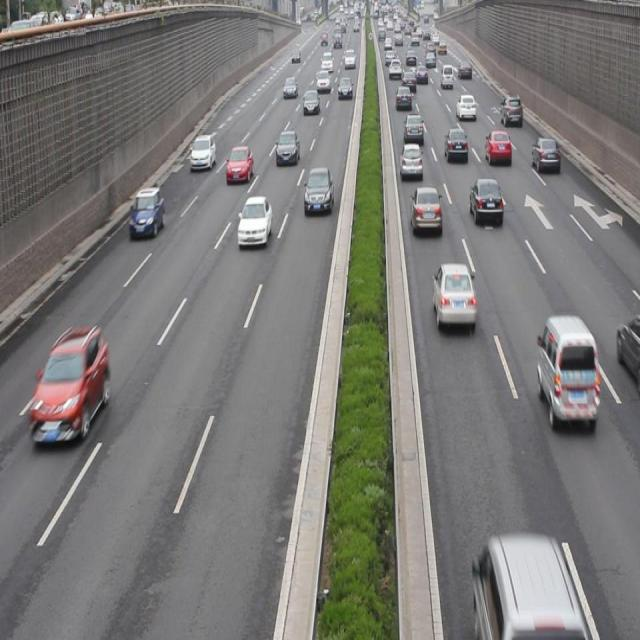car: (29, 325, 110, 445), (432, 260, 475, 329), (129, 185, 165, 239), (236, 195, 272, 247), (615, 315, 640, 382), (409, 186, 442, 236), (469, 176, 502, 222), (304, 168, 333, 214), (531, 134, 559, 172), (227, 144, 253, 184), (189, 132, 216, 170), (483, 129, 510, 166), (276, 128, 300, 168), (399, 141, 423, 180), (444, 125, 467, 163), (500, 93, 523, 126), (402, 112, 423, 144)
truck: (472, 534, 582, 640), (537, 313, 598, 422)
